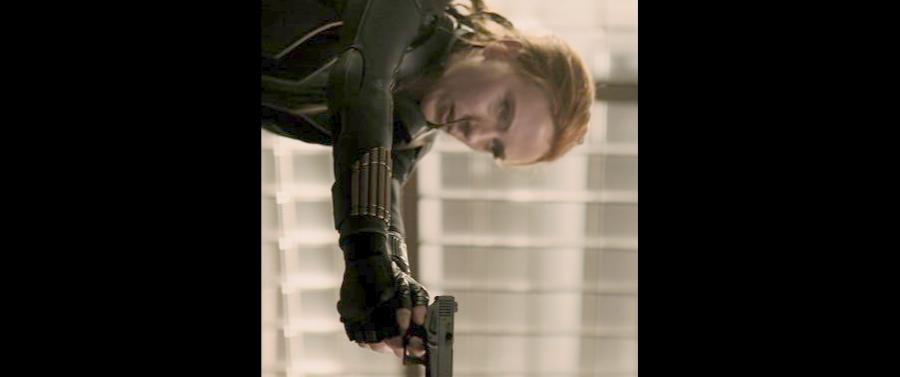gun: (366, 282, 464, 377)
